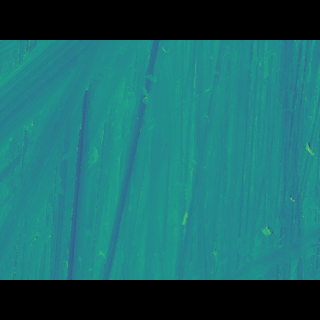Loch: (39, 70, 290, 187), (0, 69, 138, 246), (94, 69, 163, 249)
